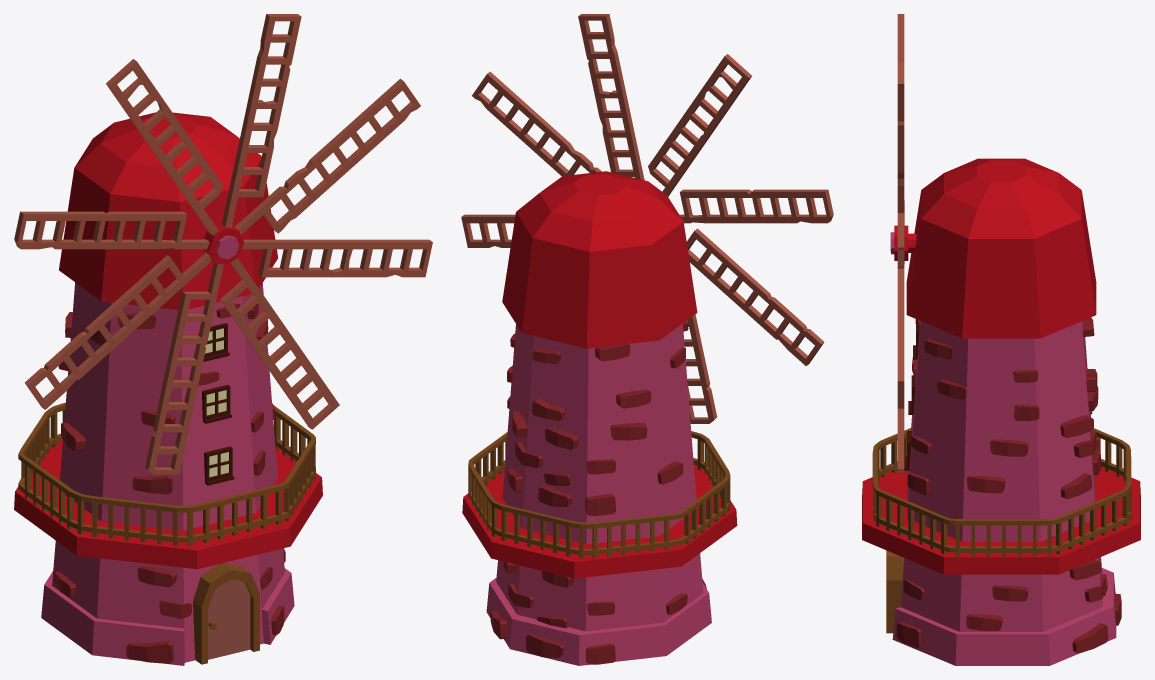
File: TowerWindmill.fbx
3 renders of one model, left to right at view 1: azimuth 30°, elevation 25°; view 2: azimuth 150°, elevation 25°; view 3: azimuth 270°, elevation 25°, orthographic. The views are drawn at different scales.
Visible parts, largest first — view 1: TowerWindmill, TowerWindmill_Blades; view 2: TowerWindmill, TowerWindmill_Blades; view 3: TowerWindmill, TowerWindmill_Blades.
Boxes of the visible parts, x1,y1,x2,y2 form: TowerWindmill: (14, 112, 322, 665); TowerWindmill_Blades: (14, 14, 432, 474); TowerWindmill: (462, 171, 737, 665); TowerWindmill_Blades: (461, 14, 833, 423); TowerWindmill: (862, 158, 1140, 665); TowerWindmill_Blades: (897, 14, 904, 472).
Bounding box in the file's own units: 792 × 1141 × 499.
